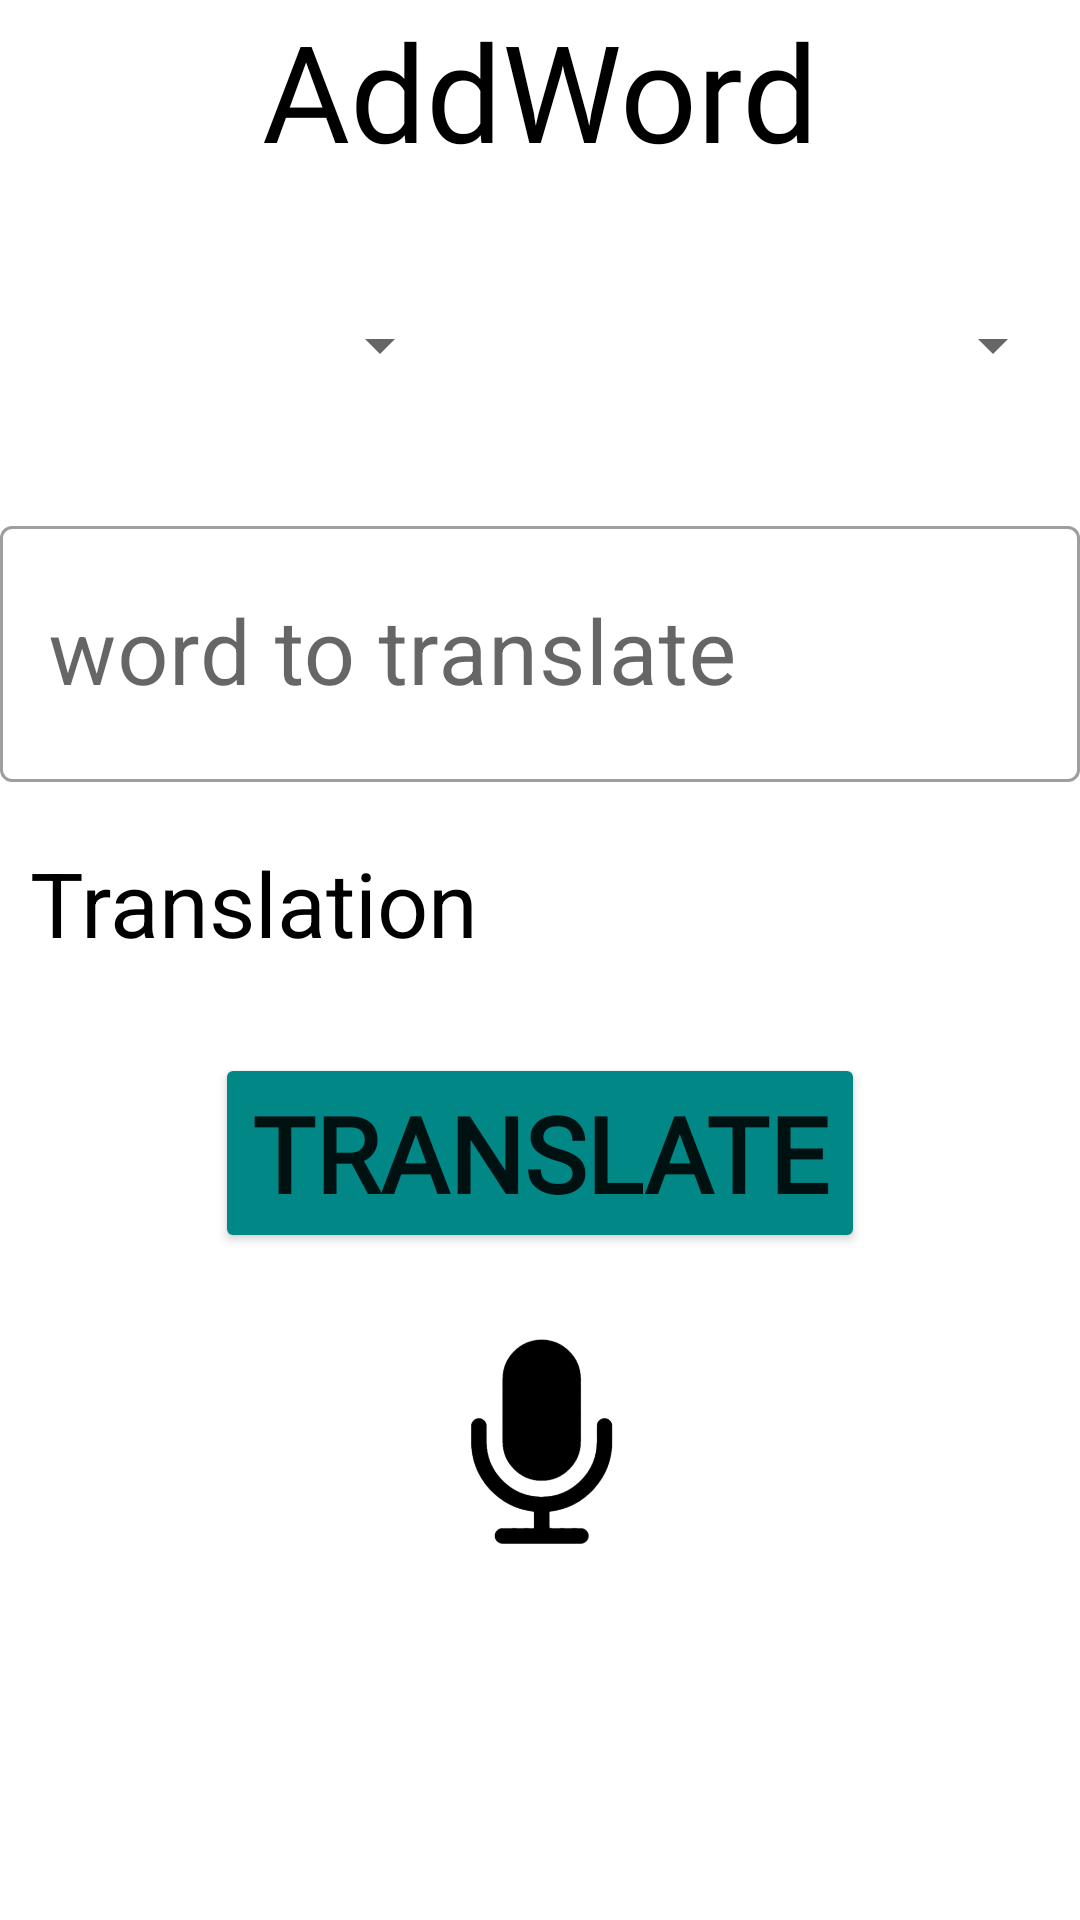

Icons on this 1080 × 1920 Android screen, each with its box as box(x1, y1, x2, y2):
mic: box(471, 1339, 613, 1544)
